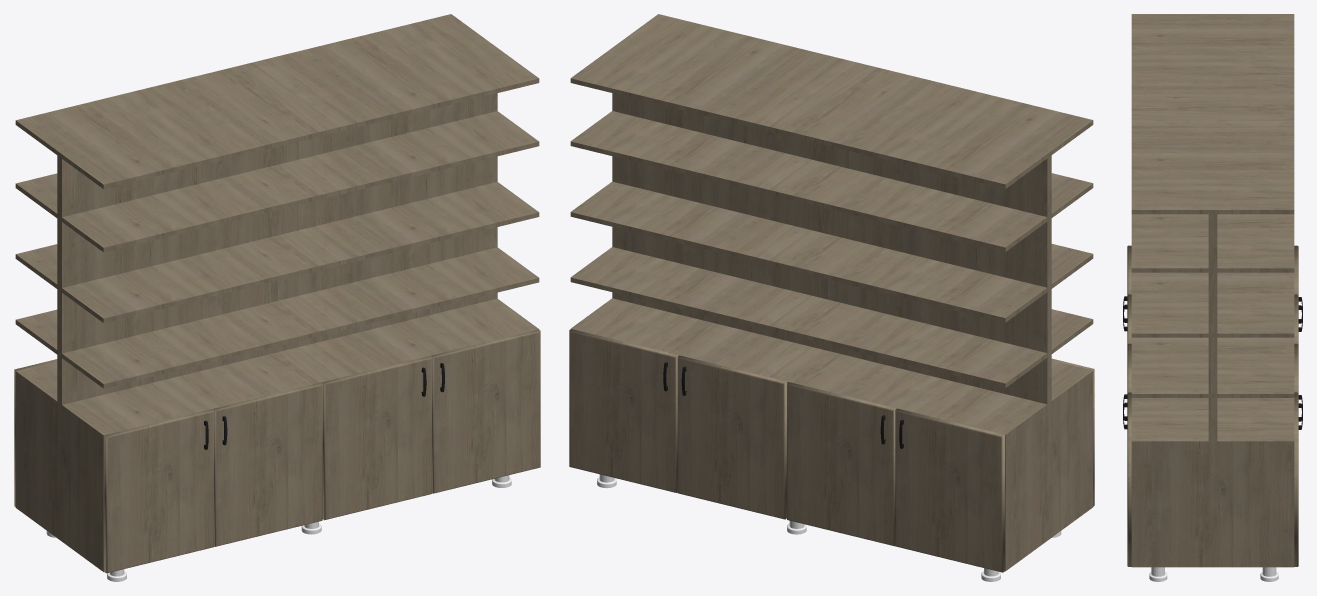
The picture shows the model from 3 angles, left to right: view 1: azimuth 30°, elevation 25°; view 2: azimuth 150°, elevation 25°; view 3: azimuth 270°, elevation 25°; orthographic projection. The views are drawn at different scales.
Parts seen in each view (by area): view 1: Box003, Box002, Box001, Box004, Box006, Box005, Box035, Box025, Box036, Box034; view 2: Box003, Box002, Box001, Box006, Box004, Box005, Box040, Box038, Box037, Box039; view 3: Box003, Box001, Box005, Box006, Box004, Box002, Box036, Box037, Cylinder008, Box025, Box034, Box035 (+3 smaller).
Part boxes in pixels (x1,y1,x2,y2): Box003: (15, 14, 539, 188); Box002: (57, 93, 497, 404); Box001: (15, 298, 539, 571); Box004: (15, 111, 539, 252); Box006: (15, 247, 539, 388); Box005: (15, 182, 539, 322); Box035: (322, 356, 431, 520); Box025: (104, 409, 213, 573); Box036: (431, 329, 540, 493); Box034: (212, 382, 322, 546); Box003: (570, 14, 1093, 188); Box002: (612, 93, 1051, 404); Box001: (571, 298, 1093, 571); Box006: (570, 247, 1093, 387); Box004: (570, 111, 1093, 251); Box005: (570, 181, 1093, 322); Box040: (895, 408, 1004, 572); Box038: (677, 355, 787, 519); Box037: (569, 329, 678, 492); Box039: (787, 382, 896, 546); Box003: (1131, 14, 1294, 214); Box001: (1131, 398, 1294, 567); Box005: (1131, 272, 1294, 337); Box006: (1131, 337, 1294, 397); Box004: (1131, 214, 1294, 272); Box002: (1208, 214, 1217, 563); Box036: (1127, 392, 1131, 566); Box037: (1294, 392, 1298, 566); Cylinder008: (1260, 567, 1278, 581); Box025: (1127, 245, 1131, 294); Box034: (1127, 294, 1131, 343); Box035: (1127, 343, 1131, 392).
Bounding box in the file's own units: 2 × 1.8 × 0.7758.
3 materials, 1 textured.
